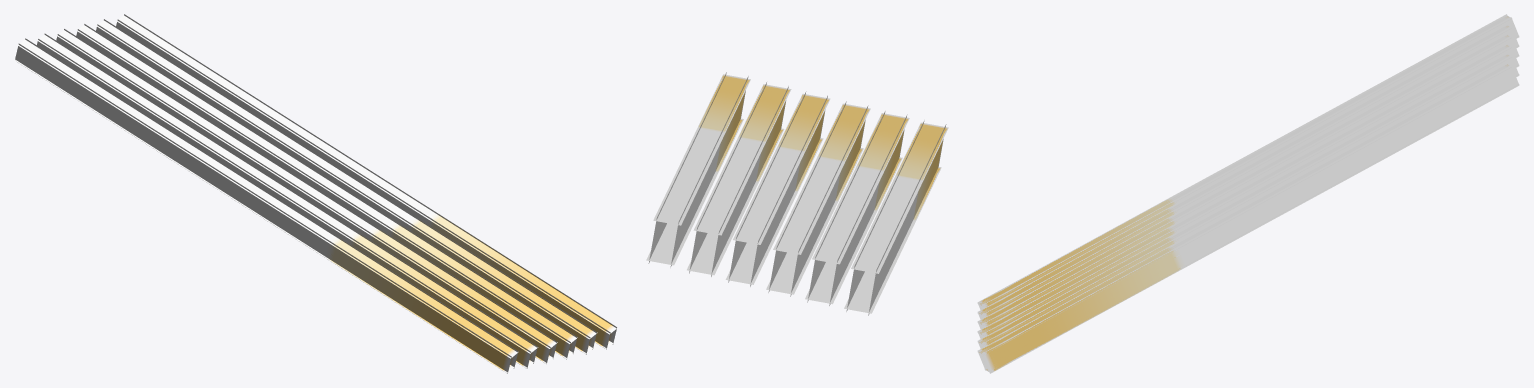
Rendered from sunbeam-2.fbx.
The picture shows the model from 3 angles, left to right: view 1: azimuth 30°, elevation 25°; view 2: azimuth 150°, elevation 25°; view 3: azimuth 270°, elevation 25°; orthographic projection. The views are drawn at different scales.
Parts seen in each view (by area): view 1: Cube; view 2: Cube; view 3: Cube.
Part boxes in pixels (<box>): Cube: <box>14,14,617,373</box>; Cube: <box>646,72,948,315</box>; Cube: <box>977,14,1519,373</box>.
Size of the model in its own units: 3844 by 2143 by 5310.
Materials: 1 (1 with a texture image).
